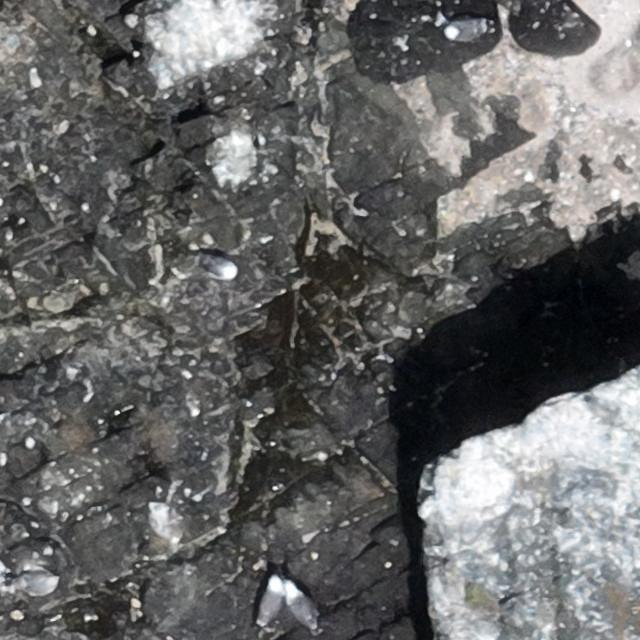umineko: (285, 581, 322, 633), (260, 582, 282, 624), (201, 257, 239, 279), (446, 18, 484, 39)
